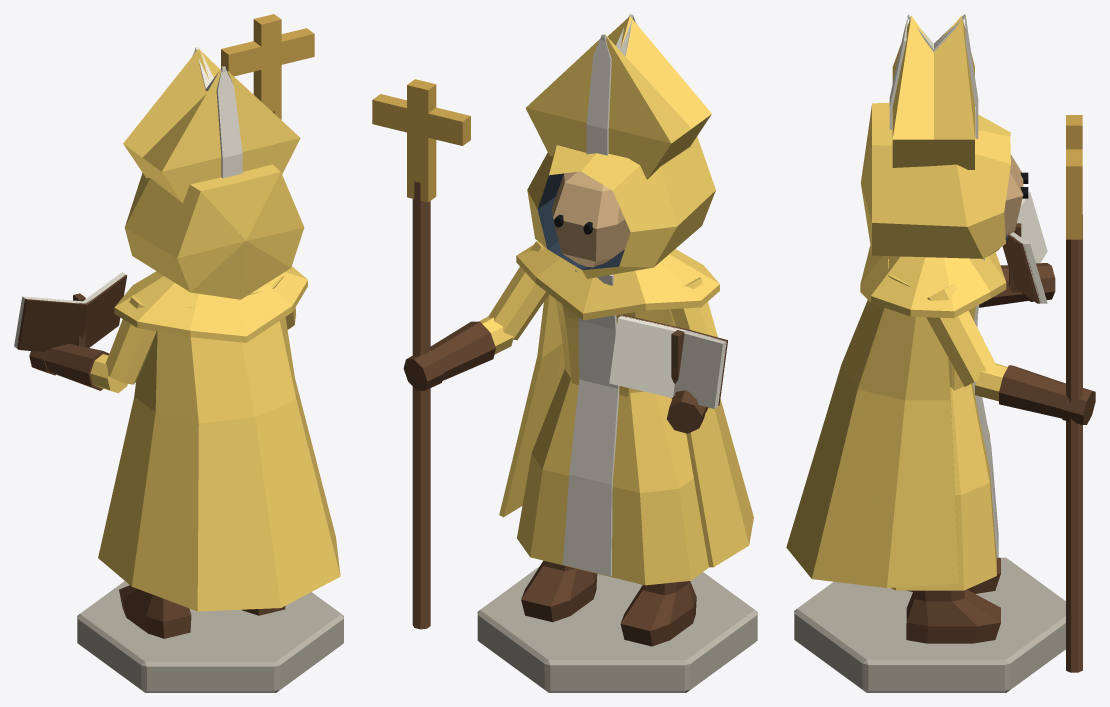
Rendered from human_cleric_t6.glb.
3 renders of one model, left to right at view 1: azimuth 30°, elevation 25°; view 2: azimuth 150°, elevation 25°; view 3: azimuth 270°, elevation 25°, orthographic. The views are drawn at different scales.
Parts seen in each view (by area): view 1: Caster_Long_Back_Cape, Foundation_Hexagonal_Stone, Caster_Open_Low_Cowl, Cleric_Plain_Deep_Mitre_Two_Front_Back_Peaks, Plain_Caster_Shoulder_Mantle, Cleric_Exactly_One_Plain_Gold_Latin_Cross, Cleric_Devotional_Book_Left_Open_Leather_Cover, Boot_-1, Cleric_One_Connected_Front_Back_Mitre_Ribbon, left_upper_sleeve, Cleric_Devotional_Book_Right_Open_Leather_Cover, left_bracer (+1 smaller); view 2: Caster_Continuous_Long_Robe, Foundation_Hexagonal_Stone, Cleric_Plain_Deep_Mitre_Two_Front_Back_Peaks, Caster_Open_Low_Cowl, Caster_Long_Back_Cape, Cleric_One_Broad_Front_Stole, Plain_Caster_Shoulder_Mantle, Cleric_One_Plain_Wooden_Cross_Staff_Shaft, Cleric_Exactly_One_Plain_Gold_Latin_Cross, Angular_Face, Cleric_Devotional_Book_Right_One_Open_Page_Block, Boot_-1 (+9 smaller); view 3: Caster_Long_Back_Cape, Foundation_Hexagonal_Stone, Caster_Open_Low_Cowl, Cleric_Plain_Deep_Mitre_Two_Front_Back_Peaks, Caster_Continuous_Long_Robe, Plain_Caster_Shoulder_Mantle, Cleric_One_Plain_Wooden_Cross_Staff_Shaft, Boot_1, right_upper_sleeve, right_bracer, Cleric_Exactly_One_Plain_Gold_Latin_Cross, Cleric_One_Connected_Front_Back_Mitre_Ribbon (+9 smaller).
Part boxes in pixels (left/top/right/bottom): Caster_Long_Back_Cape: left=98, top=317, right=340, bottom=611; Foundation_Hexagonal_Stone: left=77, top=581, right=343, bottom=692; Caster_Open_Low_Cowl: left=124, top=164, right=304, bottom=299; Cleric_Plain_Deep_Mitre_Two_Front_Back_Peaks: left=123, top=49, right=300, bottom=202; Plain_Caster_Shoulder_Mantle: left=114, top=266, right=307, bottom=342; Cleric_Exactly_One_Plain_Gold_Latin_Cross: left=221, top=14, right=314, bottom=119; Cleric_Devotional_Book_Left_Open_Leather_Cover: left=17, top=298, right=87, bottom=352; Boot_-1: left=119, top=585, right=191, bottom=638; Cleric_One_Connected_Front_Back_Mitre_Ribbon: left=192, top=46, right=242, bottom=178; left_upper_sleeve: left=105, top=295, right=156, bottom=384; Cleric_Devotional_Book_Right_Open_Leather_Cover: left=82, top=275, right=127, bottom=347; left_bracer: left=45, top=344, right=108, bottom=390; Caster_Continuous_Long_Robe: left=517, top=299, right=708, bottom=585; Foundation_Hexagonal_Stone: left=477, top=566, right=757, bottom=692; Cleric_Plain_Deep_Mitre_Two_Front_Back_Peaks: left=525, top=16, right=711, bottom=179; Caster_Open_Low_Cowl: left=527, top=136, right=715, bottom=278; Caster_Long_Back_Cape: left=499, top=294, right=753, bottom=567; Cleric_One_Broad_Front_Stole: left=563, top=270, right=619, bottom=576; Plain_Caster_Shoulder_Mantle: left=516, top=245, right=719, bottom=320; Cleric_One_Plain_Wooden_Cross_Staff_Shaft: left=412, top=181, right=430, bottom=629; Cleric_Exactly_One_Plain_Gold_Latin_Cross: left=372, top=79, right=470, bottom=202; Angular_Face: left=552, top=171, right=630, bottom=267; Cleric_Devotional_Book_Right_One_Open_Page_Block: left=609, top=315, right=684, bottom=397; Boot_-1: left=620, top=581, right=696, bottom=646; Caster_Long_Back_Cape: left=786, top=300, right=958, bottom=587; Foundation_Hexagonal_Stone: left=794, top=557, right=1065, bottom=692; Caster_Open_Low_Cowl: left=860, top=102, right=1010, bottom=258; Cleric_Plain_Deep_Mitre_Two_Front_Back_Peaks: left=892, top=15, right=974, bottom=169; Caster_Continuous_Long_Robe: left=888, top=259, right=996, bottom=590; Plain_Caster_Shoulder_Mantle: left=860, top=245, right=1006, bottom=318; Cleric_One_Plain_Wooden_Cross_Staff_Shaft: left=1066, top=215, right=1082, bottom=672; Boot_1: left=906, top=589, right=1000, bottom=643; right_upper_sleeve: left=926, top=283, right=995, bottom=386; right_bracer: left=999, top=365, right=1065, bottom=418; Cleric_Exactly_One_Plain_Gold_Latin_Cross: left=1066, top=115, right=1082, bottom=239; Cleric_One_Connected_Front_Back_Mitre_Ribbon: left=889, top=14, right=978, bottom=138.
Bounding box in the file's own units: 1.24 × 2.26 × 1.01.
